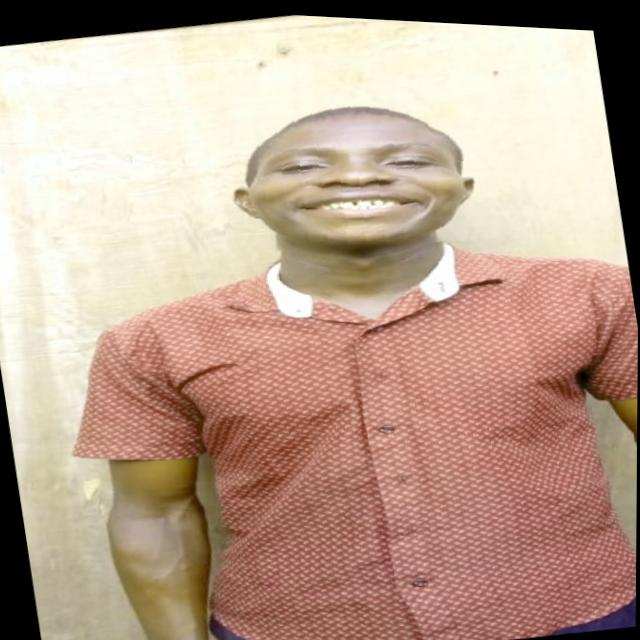happy: (207, 58, 509, 272)
